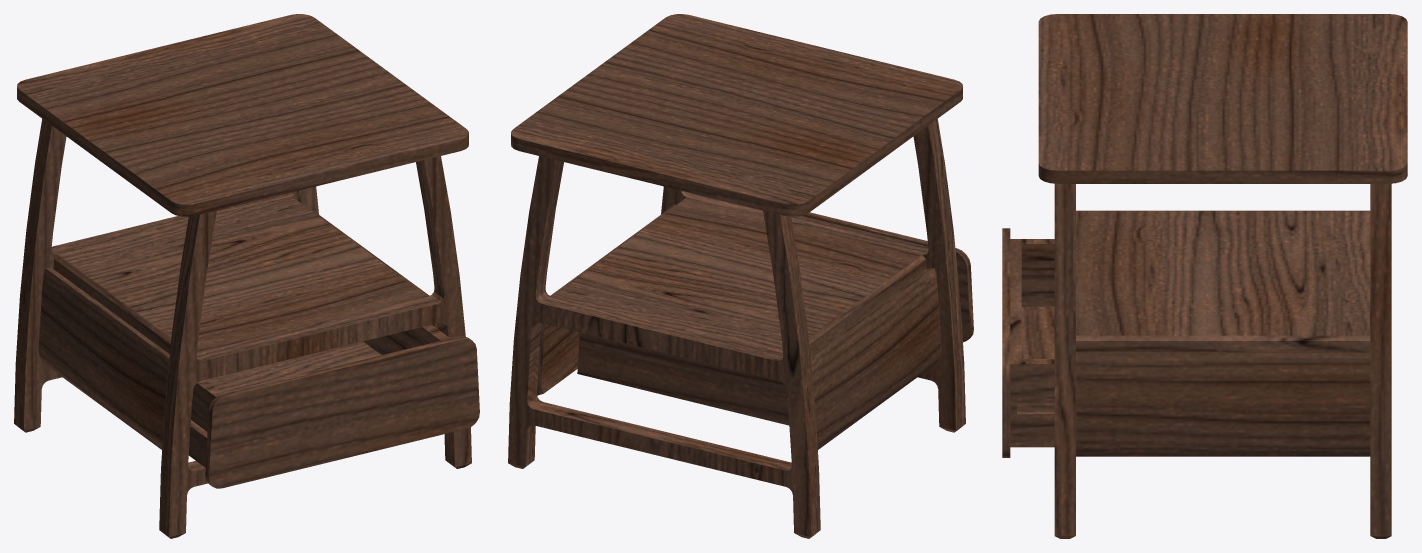
Rendered from Little-table.fbx.
3 views of the same model, side by side, from view 1: azimuth 30°, elevation 25°; view 2: azimuth 150°, elevation 25°; view 3: azimuth 270°, elevation 25° (orthographic). The views are drawn at different scales.
Parts seen in each view (by area): view 1: Cube.073, Cube.084, Cube.081, Cube.076; view 2: Cube.073, Cube.084, Cube.076, Cube.081; view 3: Cube.084, Cube.073, Cube.076, Cube.081.
Boxes of the visible parts, box(x1,y1,x2,y2) form: Cube.073: box(14, 119, 471, 538); Cube.084: box(17, 14, 468, 216); Cube.081: box(188, 324, 479, 488); Cube.076: box(38, 204, 438, 449); Cube.073: box(508, 119, 965, 538); Cube.084: box(511, 14, 962, 216); Cube.076: box(537, 204, 941, 449); Cube.081: box(577, 212, 973, 425); Cube.084: box(1038, 14, 1407, 183); Cube.073: box(1054, 183, 1391, 538); Cube.076: box(1076, 352, 1370, 456); Cube.081: box(1002, 228, 1054, 457).
Bounding box in the file's own units: 83.57 × 89.34 × 89.03.
Materials: 1 (1 with a texture image).
